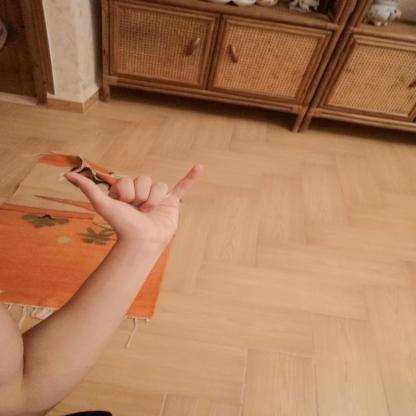YA: (53, 160, 213, 256)
